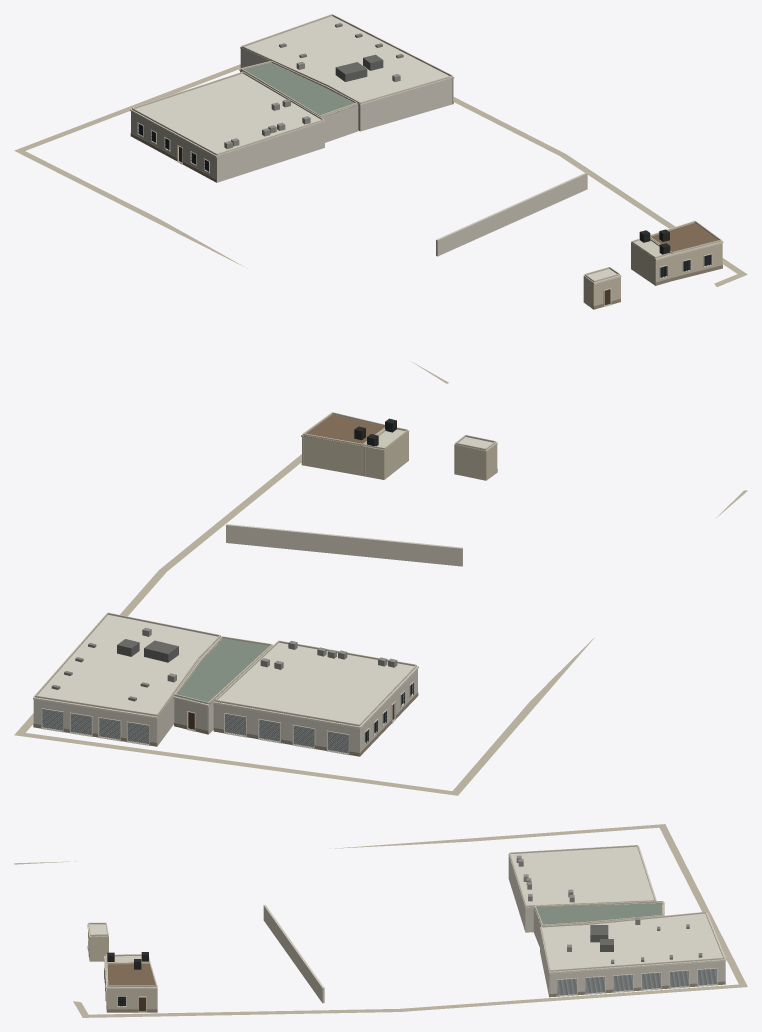
3 renders of one model, top to bottom at view 1: azimuth 30°, elevation 25°; view 2: azimuth 150°, elevation 25°; view 3: azimuth 270°, elevation 25°, orthographic. The views are drawn at different scales.
Parts seen in each view (by area): view 1: edificio; view 2: edificio; view 3: edificio.
Part boxes in pixels (x1,y1,x2,y2): edificio: [14, 14, 747, 383]; edificio: [14, 412, 747, 795]; edificio: [14, 824, 747, 1017].
Bounding box in the file's own units: 65.76 × 5.2 × 105.
